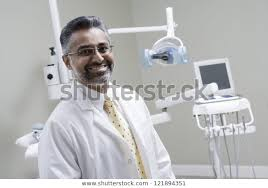Indian_Male: (62, 25, 120, 91)
